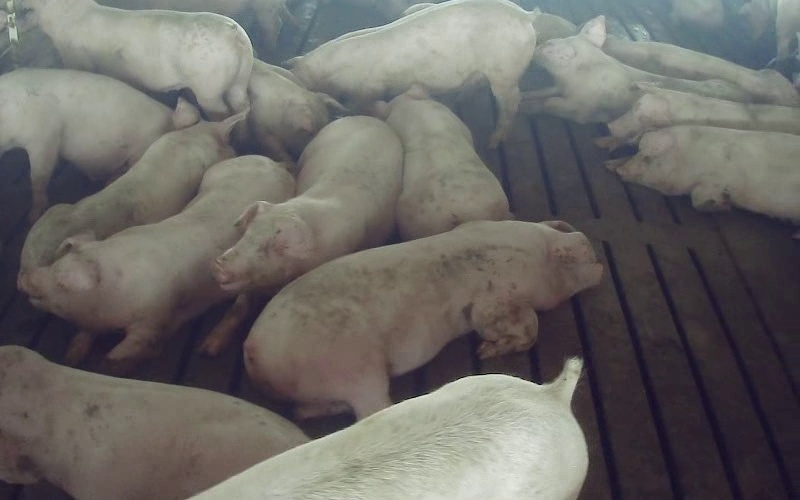pig: (245, 221, 602, 417), (19, 155, 292, 362), (193, 357, 587, 499), (199, 116, 402, 354), (20, 98, 242, 270), (28, 0, 252, 119), (521, 16, 749, 122), (373, 86, 512, 239), (607, 125, 799, 223), (600, 83, 799, 149)
